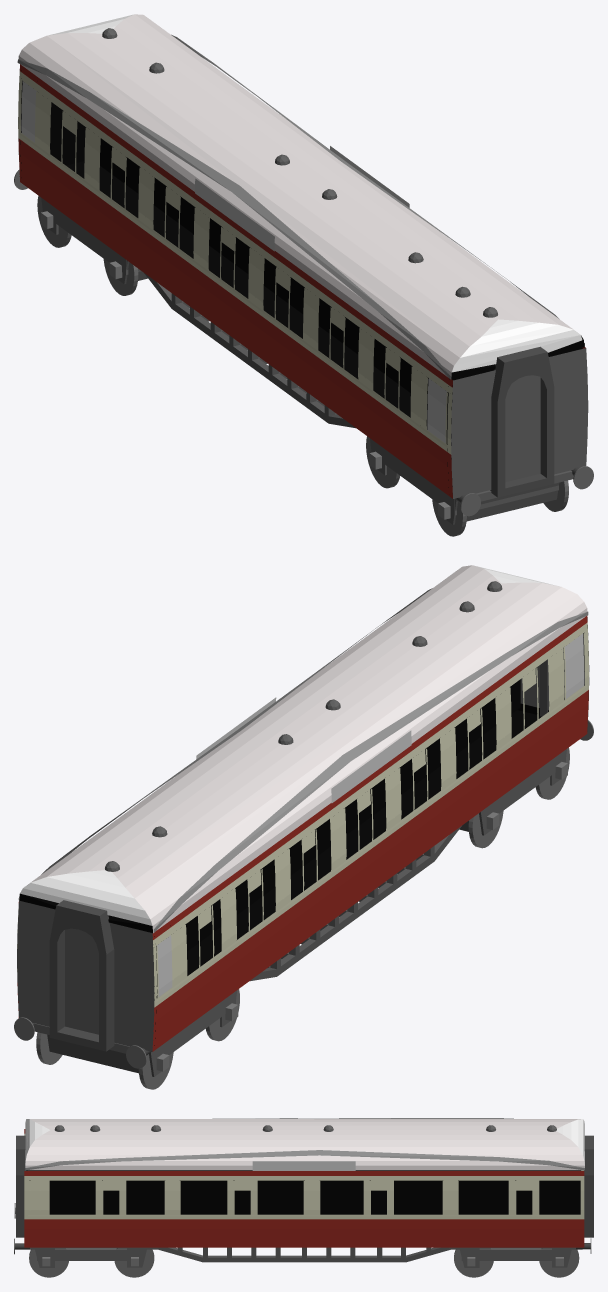
The model's file is lner-gresley-express-coach-all-doors-first-cc.dae.
The picture shows the model from 3 angles, top to bottom: view 1: azimuth 30°, elevation 25°; view 2: azimuth 150°, elevation 25°; view 3: azimuth 270°, elevation 25°; orthographic projection. The views are drawn at different scales.
Parts seen in each view (by area): view 1: Suzanne_001, Plane_358, Plane_070, Plane_012, Plane_019, Tube_002, Suzanne_004, Plane_359, Plane_332, Plane_357, Plane_026, Cube_070 (+15 smaller); view 2: Suzanne_001, Plane_358, Plane_001, Plane_012, Plane_019, Tube_004, Suzanne_004, Plane_359, Plane_332, Plane_357, Cube_060, Plane_009 (+14 smaller); view 3: Suzanne_001, Plane_007, Plane_019, Suzanne_003, Plane_006, Plane_005, Plane_158, Plane_079, Cube_043, Cube_072, Plane_103, Tube_004 (+21 smaller).
Boxes of the visible parts, left/top/right/bottom form: Suzanne_001: left=18, top=14, right=584, bottom=379; Plane_358: left=18, top=138, right=452, bottom=498; Plane_070: left=451, top=348, right=588, bottom=498; Plane_012: left=66, top=161, right=447, bottom=444; Plane_019: left=100, top=138, right=448, bottom=419; Tube_002: left=490, top=346, right=554, bottom=497; Suzanne_004: left=17, top=59, right=450, bottom=379; Plane_359: left=19, top=71, right=452, bottom=394; Plane_332: left=37, top=77, right=432, bottom=372; Plane_357: left=18, top=131, right=451, bottom=454; Plane_026: left=20, top=70, right=86, bottom=177; Cube_070: left=446, top=470, right=573, bottom=524; Suzanne_001: left=19, top=565, right=587, bottom=932; Plane_358: left=152, top=690, right=588, bottom=1051; Plane_001: left=17, top=900, right=154, bottom=1051; Plane_012: left=157, top=703, right=548, bottom=997; Plane_019: left=156, top=679, right=520, bottom=970; Tube_004: left=49, top=900, right=114, bottom=1051; Suzanne_004: left=153, top=611, right=588, bottom=932; Plane_359: left=153, top=622, right=587, bottom=947; Plane_332: left=170, top=631, right=566, bottom=926; Plane_357: left=154, top=682, right=588, bottom=1007; Cube_060: left=34, top=1023, right=165, bottom=1076; Plane_009: left=331, top=730, right=411, bottom=803; Suzanne_001: left=25, top=1119, right=584, bottom=1170; Plane_007: left=24, top=1219, right=584, bottom=1247; Plane_019: left=26, top=1170, right=581, bottom=1214; Suzanne_003: left=25, top=1150, right=584, bottom=1170; Plane_006: left=24, top=1176, right=584, bottom=1180; Plane_005: left=24, top=1214, right=584, bottom=1219; Plane_158: left=51, top=1171, right=561, bottom=1175; Plane_079: left=28, top=1215, right=581, bottom=1216; Cube_043: left=461, top=1248, right=568, bottom=1260; Cube_072: left=37, top=1248, right=143, bottom=1260; Plane_103: left=252, top=1161, right=355, bottom=1170; Tube_004: left=584, top=1135, right=593, bottom=1237.
Bounding box in the file's own units: 1.96 × 10.97 × 2.82.
